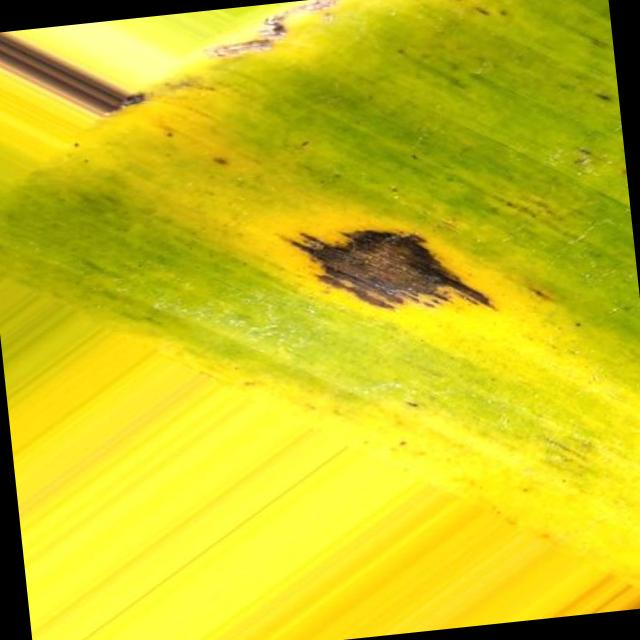Banana_Yellow_Sigatoka: (249, 160, 553, 368)
